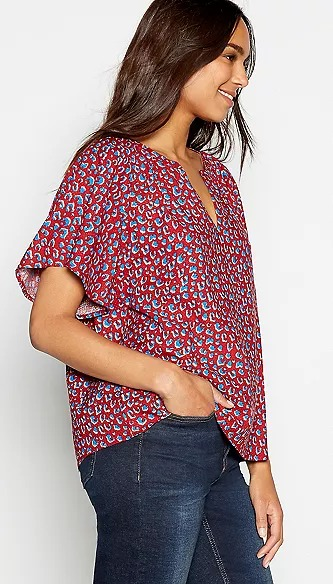C_jeans: (70, 418, 274, 584)
C_short blouse: (19, 129, 294, 462)
